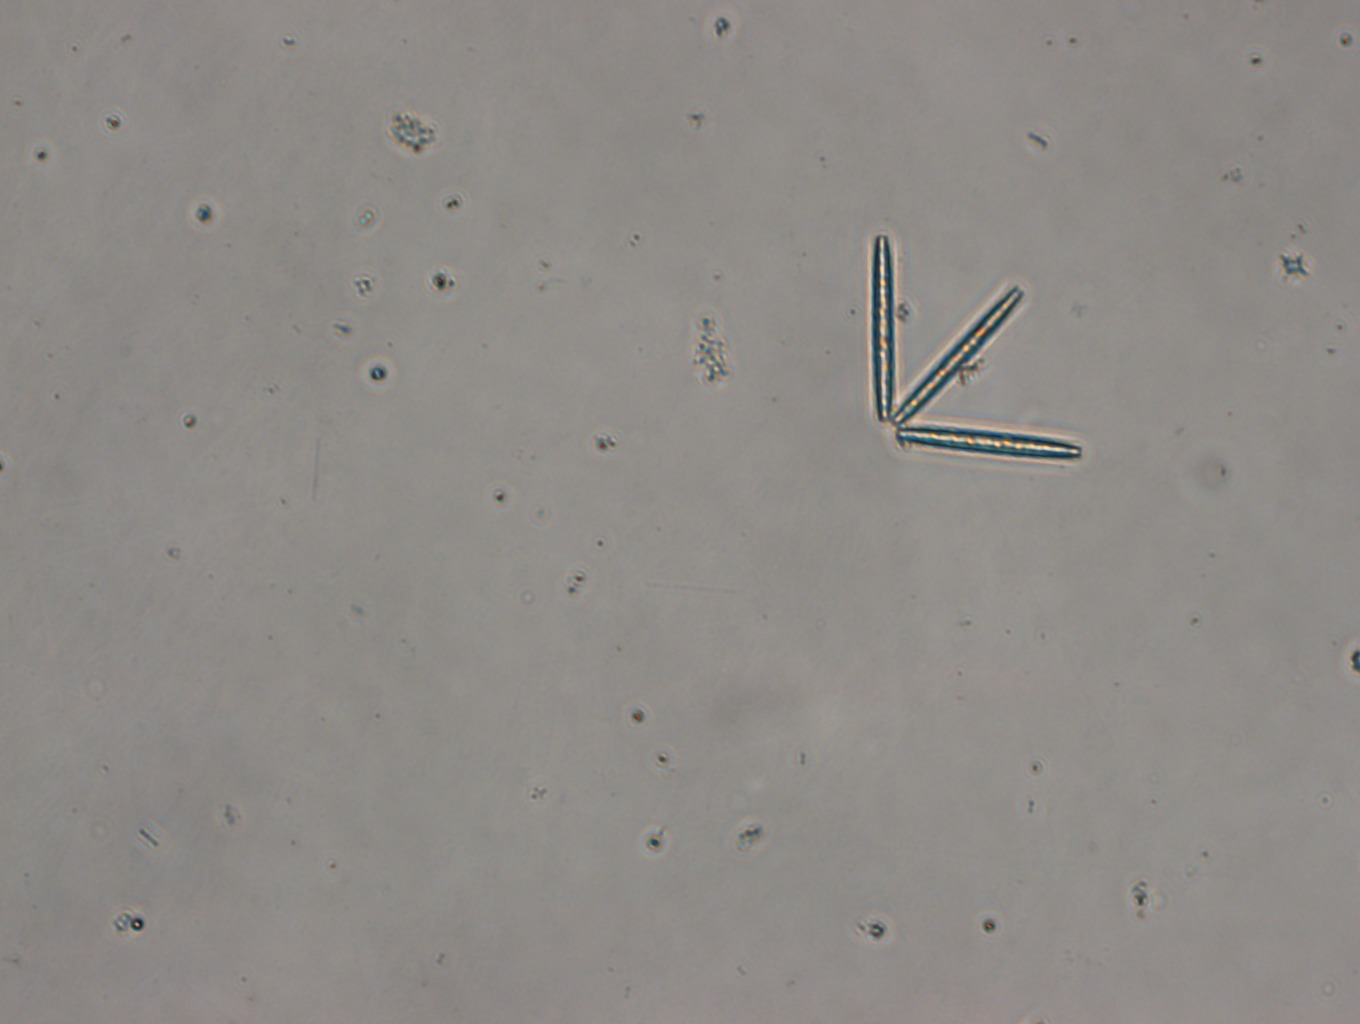thalassionema nitzschioides: (867, 231, 1080, 463)
